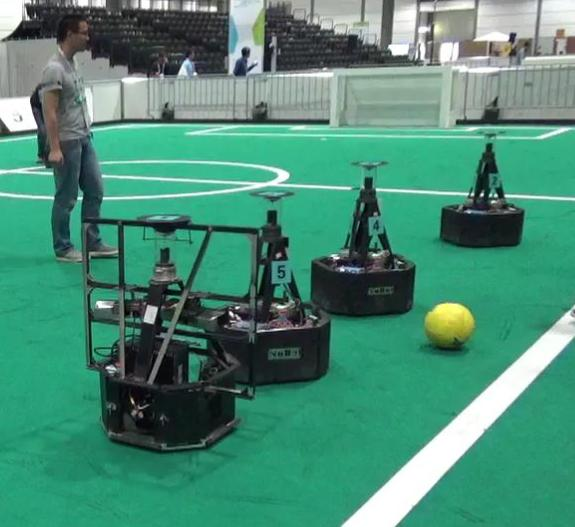robot: (79, 216, 251, 452), (220, 182, 332, 388), (313, 154, 419, 318), (437, 126, 524, 249)
